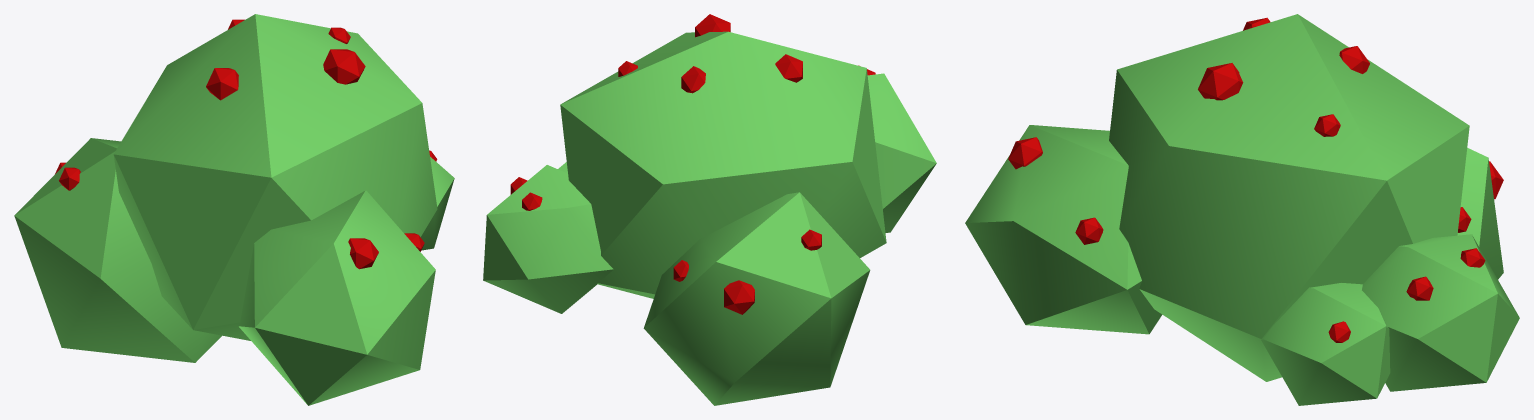
File: Bush1.fbx
3 views of the same model, side by side, from view 1: azimuth 30°, elevation 25°; view 2: azimuth 150°, elevation 25°; view 3: azimuth 270°, elevation 25° (orthographic). The views are drawn at different scales.
Parts seen in each view (by area): view 1: Bush1; view 2: Bush1; view 3: Bush1.
Boxes of the visible parts, x1=… form: Bush1: x1=14, y1=14, x2=454, y2=405; Bush1: x1=483, y1=14, x2=936, y2=405; Bush1: x1=965, y1=14, x2=1519, y2=405.
Size of the model in its own units: 170 by 154 by 197.
